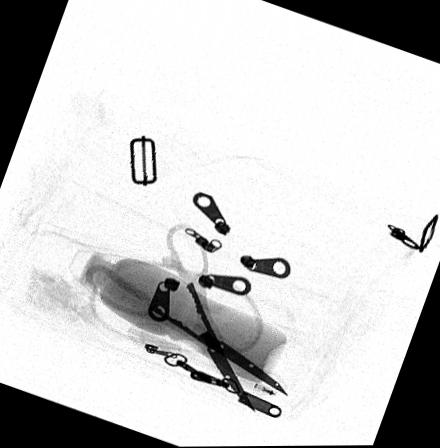Scissors: (79, 220, 291, 412)
